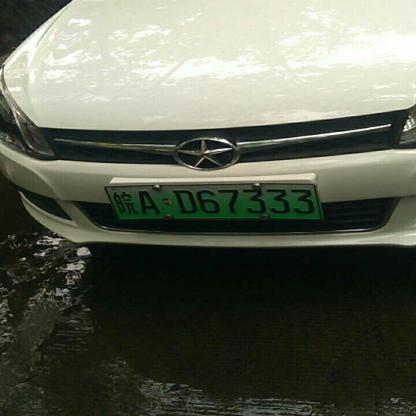lp: (104, 185, 320, 217)
